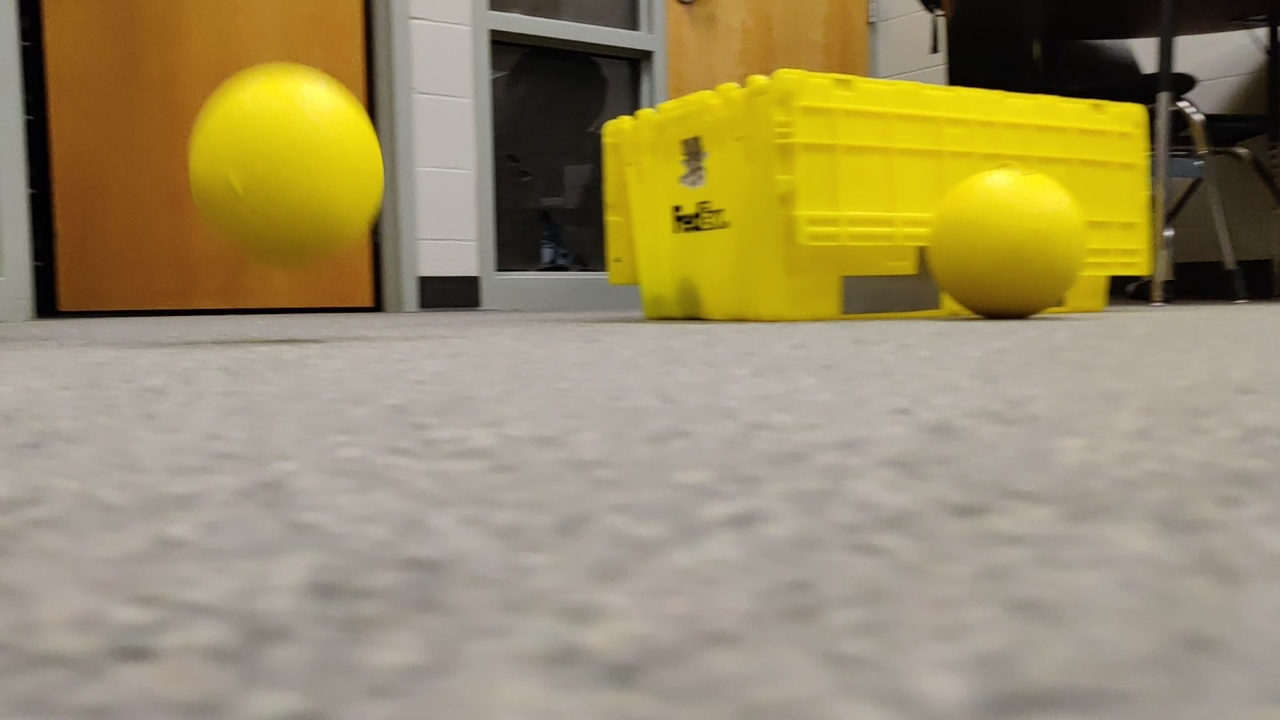Ball: (185, 60, 384, 263), (923, 159, 1087, 317)
